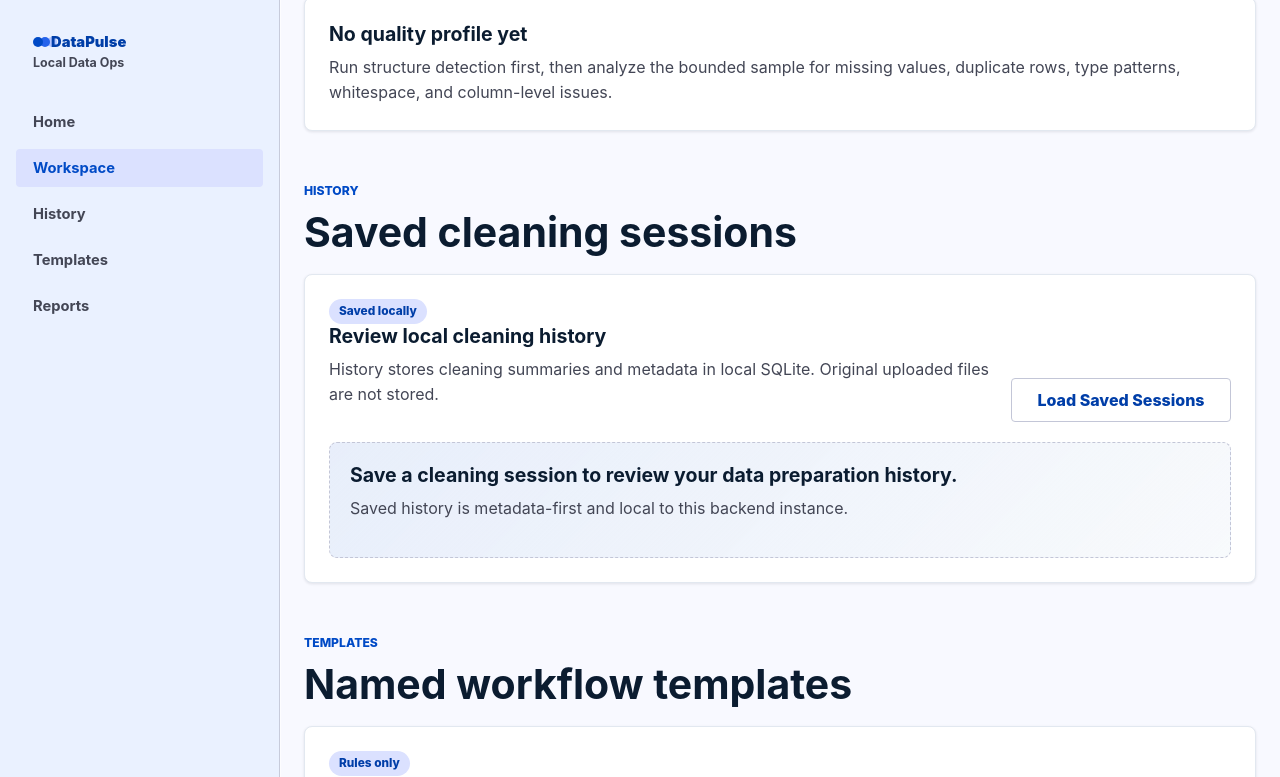
Test: App › deletes a saved session after confirmation
(page scrolled)
Click the button "Load Saved Sessions". click: {"x": 1121, "y": 400}
box: [1011,378,1231,422]
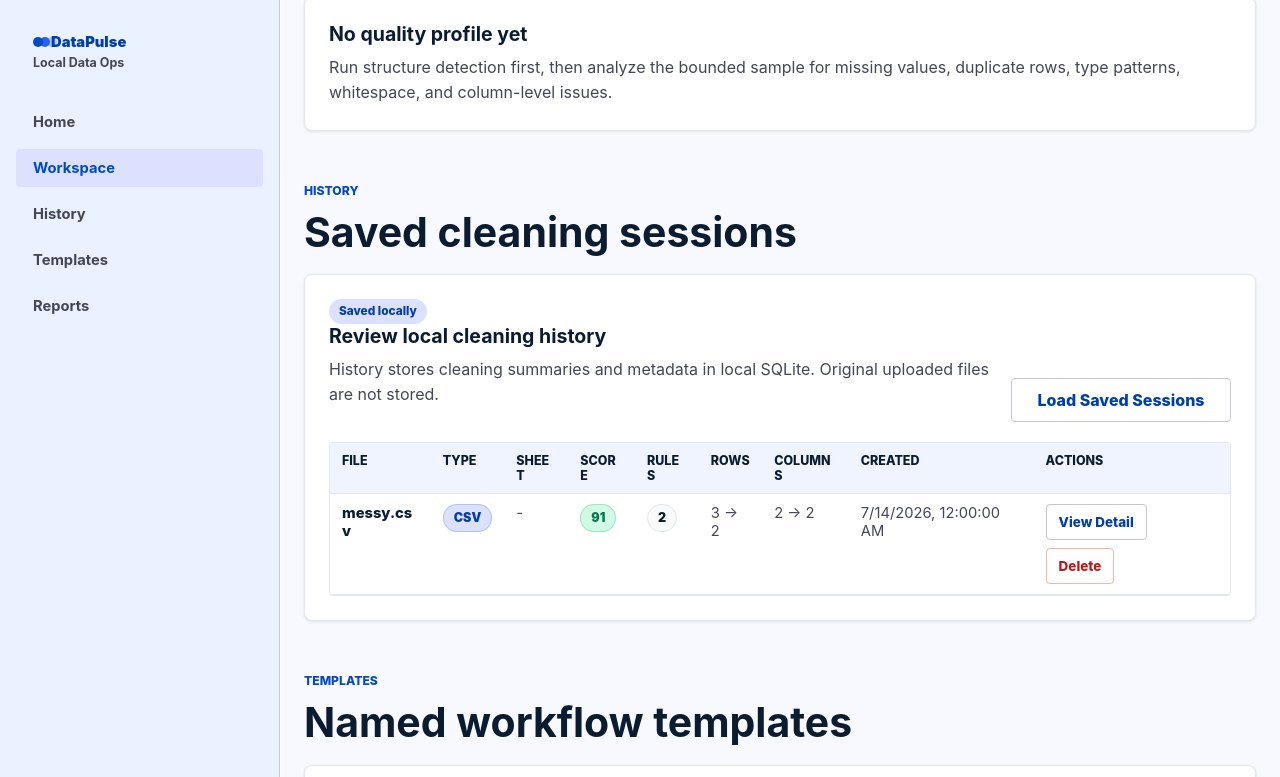
Check: the button "Delete" is shown, box [1046,548,1114,584]
Click the button "View Detail". click: {"x": 1096, "y": 522}
box: [1046,504,1147,540]
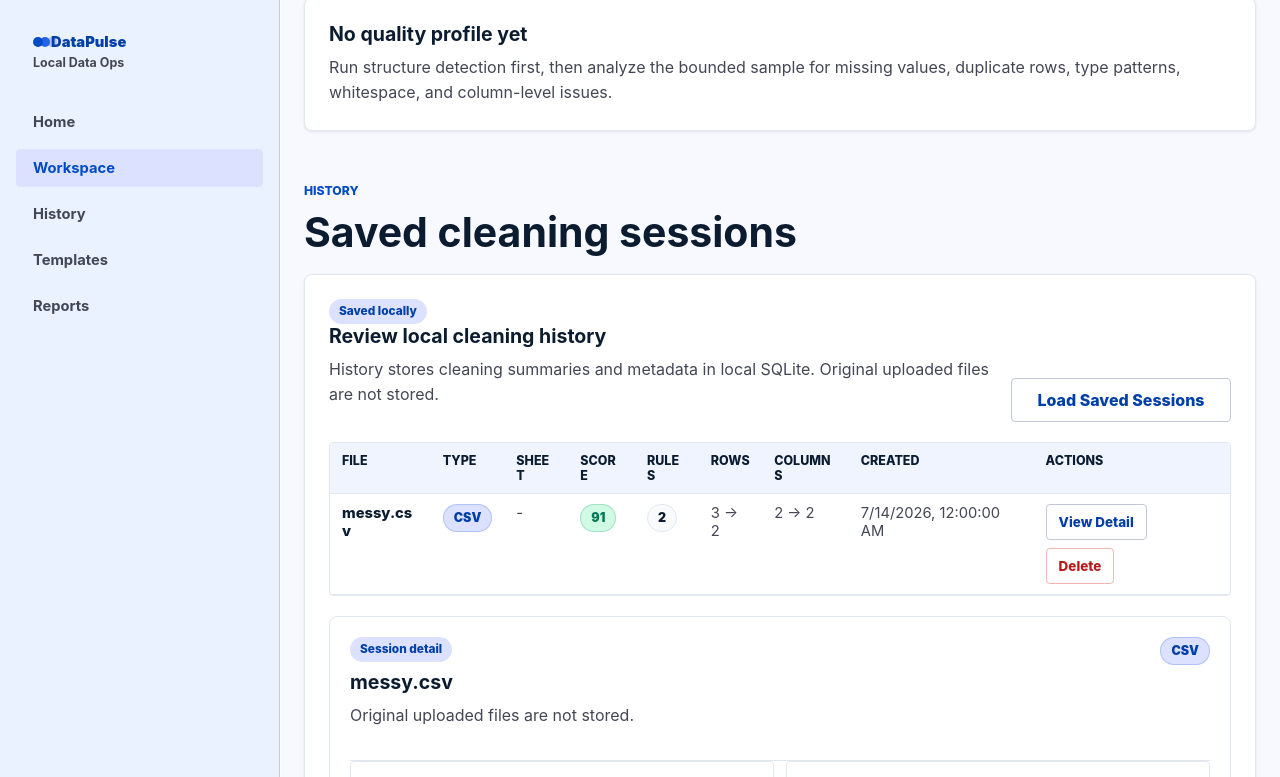
Click the button "Delete". click: {"x": 1080, "y": 566}
box: [1046,548,1114,584]
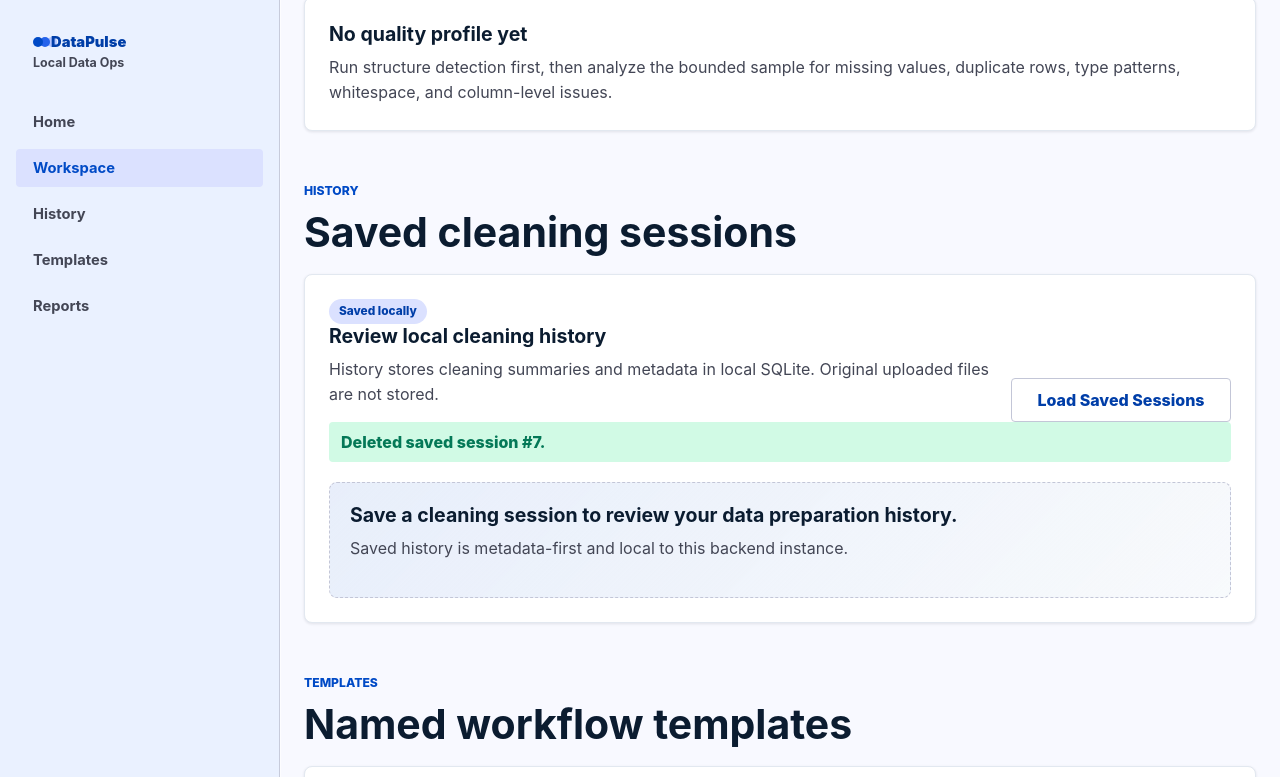
Check: the text "Deleted saved session #7." is shown, box [329,422,1231,462]
